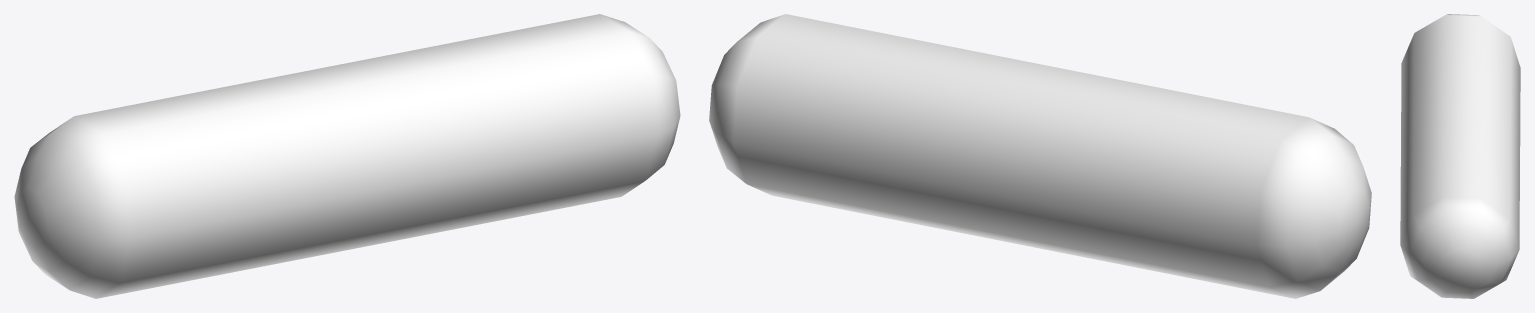
File: SM_sugar_single.fbx
The picture shows the model from 3 angles, left to right: view 1: azimuth 30°, elevation 25°; view 2: azimuth 150°, elevation 25°; view 3: azimuth 270°, elevation 25°; orthographic projection. The views are drawn at different scales.
Parts seen in each view (by area): view 1: SM_sugar_single; view 2: SM_sugar_single; view 3: SM_sugar_single.
Boxes of the visible parts, bbox=[...] form: SM_sugar_single: bbox=[14, 14, 680, 298]; SM_sugar_single: bbox=[709, 14, 1371, 298]; SM_sugar_single: bbox=[1400, 14, 1520, 298].
Size of the model in its own units: 66.49 by 18.6 by 16.82.
